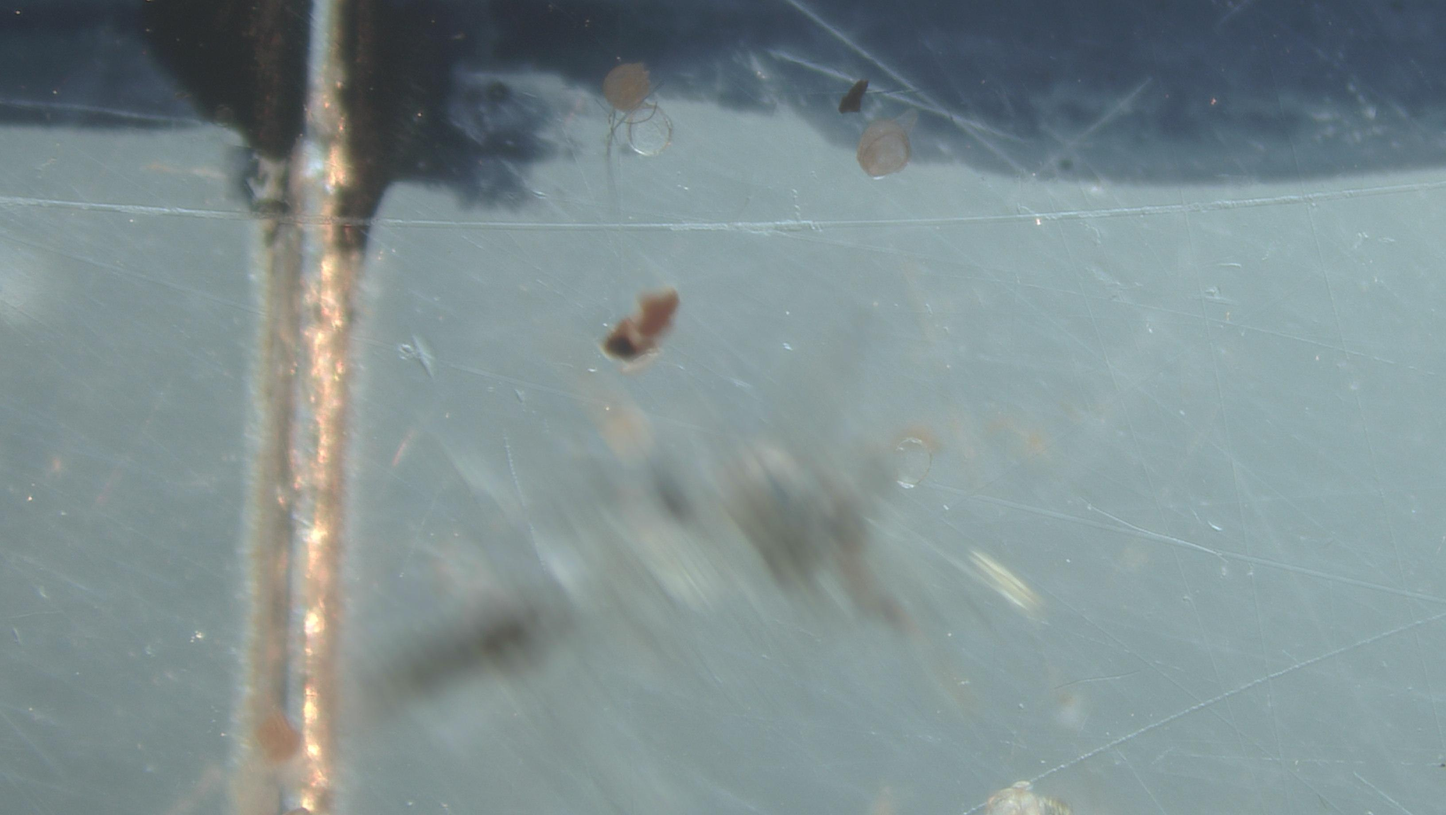dead: (605, 95, 674, 183), (890, 434, 933, 489)
live: (856, 109, 917, 178), (603, 64, 653, 125), (838, 80, 868, 113)
